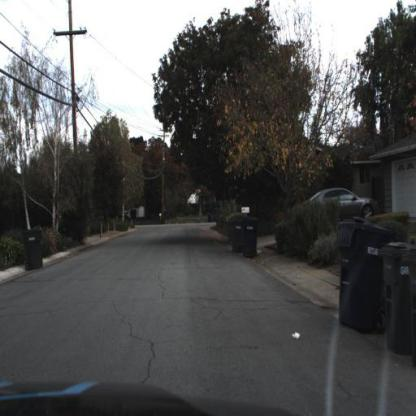car: (306, 186, 381, 230)
